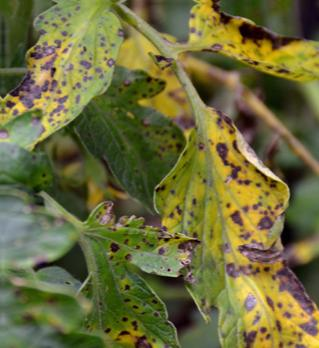Tomato Early blight leaf: (172, 99, 319, 348), (0, 0, 128, 143), (177, 1, 319, 76)
